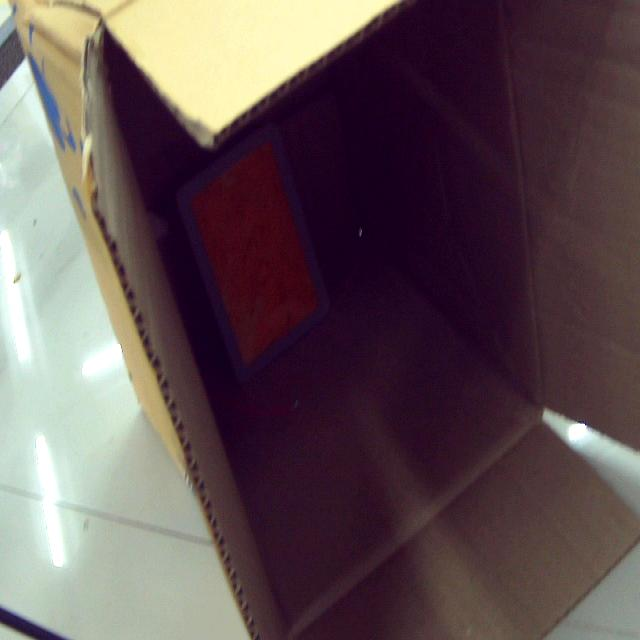block: (176, 128, 332, 382)
